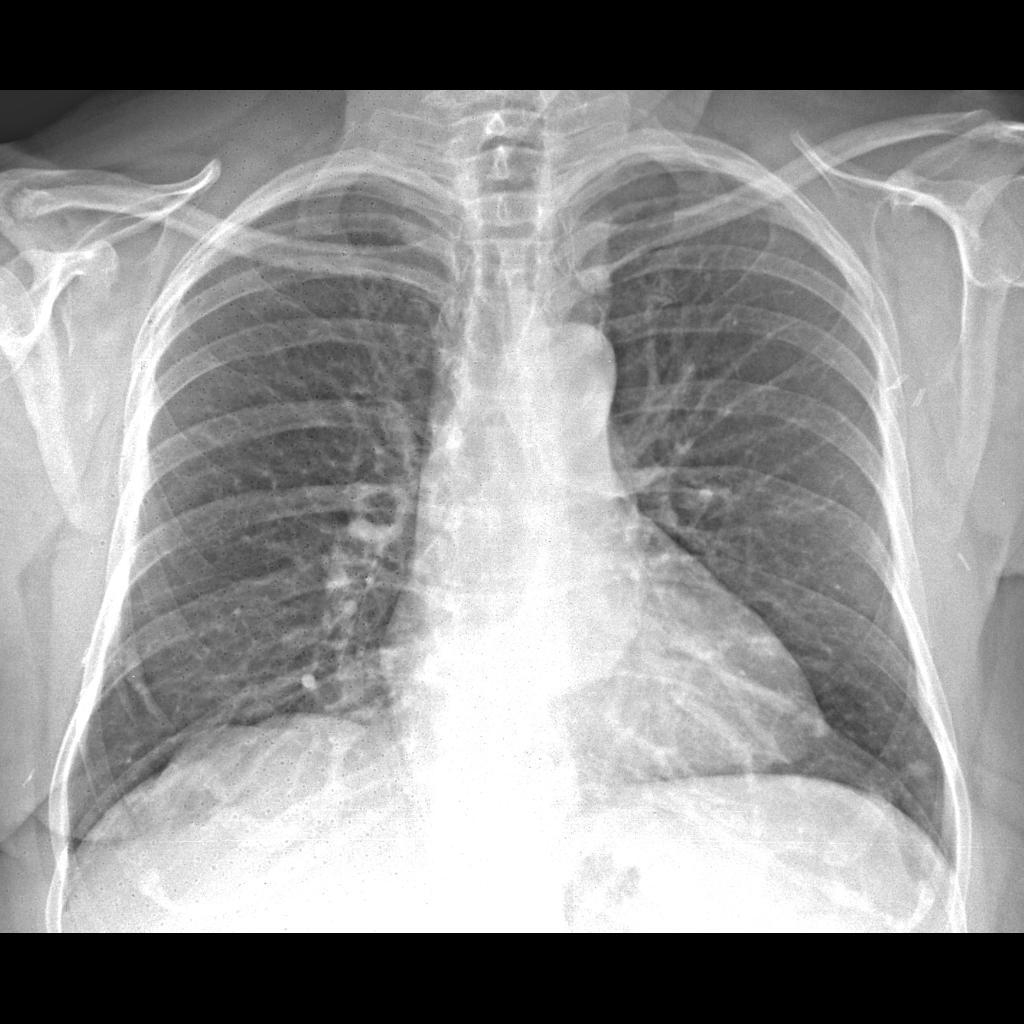Nodule: (889, 754, 945, 796)
